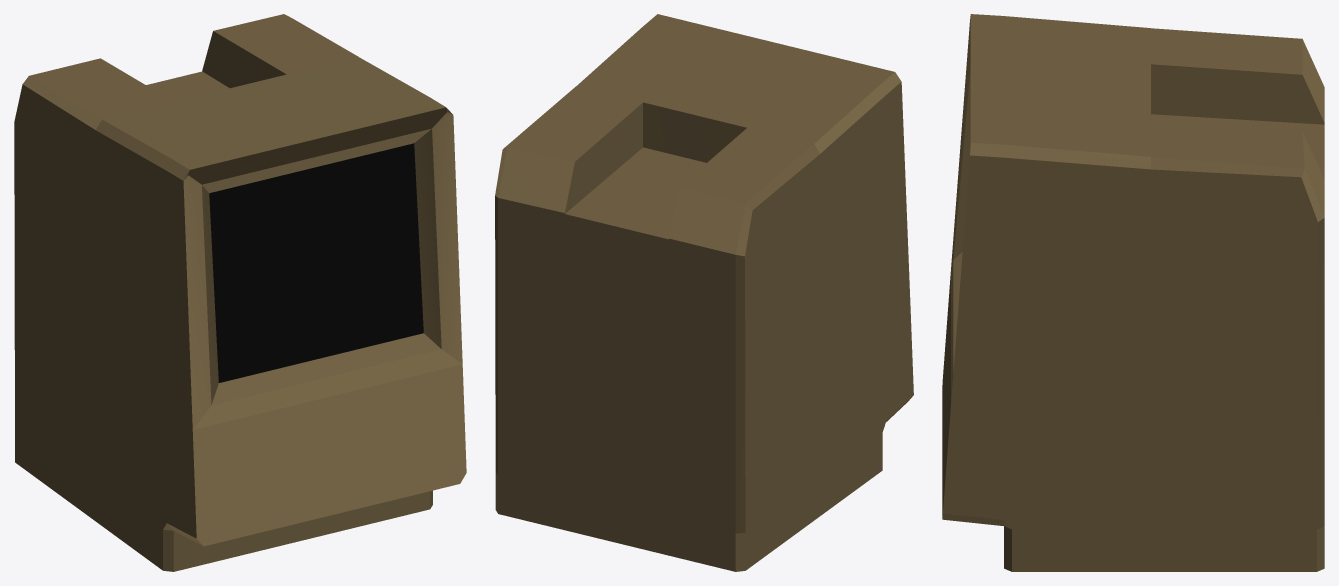
Rendered from Macintosh.obj.
3 renders of one model, left to right at view 1: azimuth 30°, elevation 25°; view 2: azimuth 150°, elevation 25°; view 3: azimuth 270°, elevation 25°, orthographic. The views are drawn at different scales.
Visible parts, largest first — view 1: Cube (1), Cube (3), Cube, Cube (2), Cube (4); view 2: Cube (1), Cube (3), Cube (4), Cube (2), Cube; view 3: Cube (1), Cube (2), Cube (3), Cube, Cube (4).
Part boxes in pixels (bbox=[...]): Cube (1): bbox=[95, 57, 466, 546]; Cube (3): bbox=[14, 58, 173, 479]; Cube: bbox=[15, 421, 432, 571]; Cube (2): bbox=[202, 14, 358, 88]; Cube (4): bbox=[146, 71, 229, 101]; Cube (1): bbox=[576, 14, 913, 477]; Cube (3): bbox=[669, 128, 820, 533]; Cube (4): bbox=[565, 147, 706, 517]; Cube (2): bbox=[495, 86, 642, 491]; Cube: bbox=[495, 432, 882, 571]; Cube (1): bbox=[942, 14, 1151, 529]; Cube (2): bbox=[1151, 120, 1324, 529]; Cube (3): bbox=[1151, 28, 1324, 124]; Cube: bbox=[1004, 526, 1324, 571]; Cube (4): bbox=[1151, 114, 1324, 178].
Size of the model in its own units: 0.24 by 0.3517 by 0.2864.
